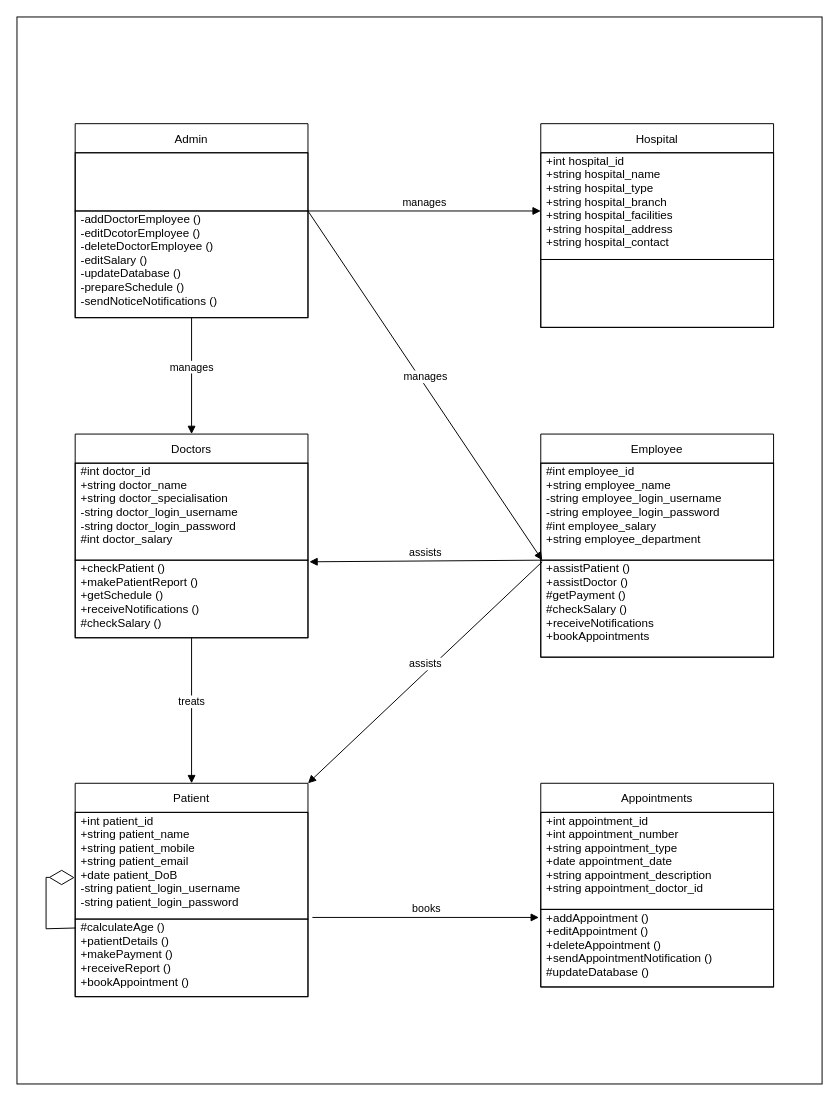
Some shapes in this 839 by 1101 pixel diagram are drawn without their labels. The shapes that lost their labels are listed below. From the top down, each one's box as (x1, y1, x2, y2) in pixels, then its label:
(74, 152, 308, 211): #int admin_ID -string admin_login_username -string admin_login_password
(540, 259, 774, 327): addHospital () editHospital () deleteHospital () searchHospital ()
